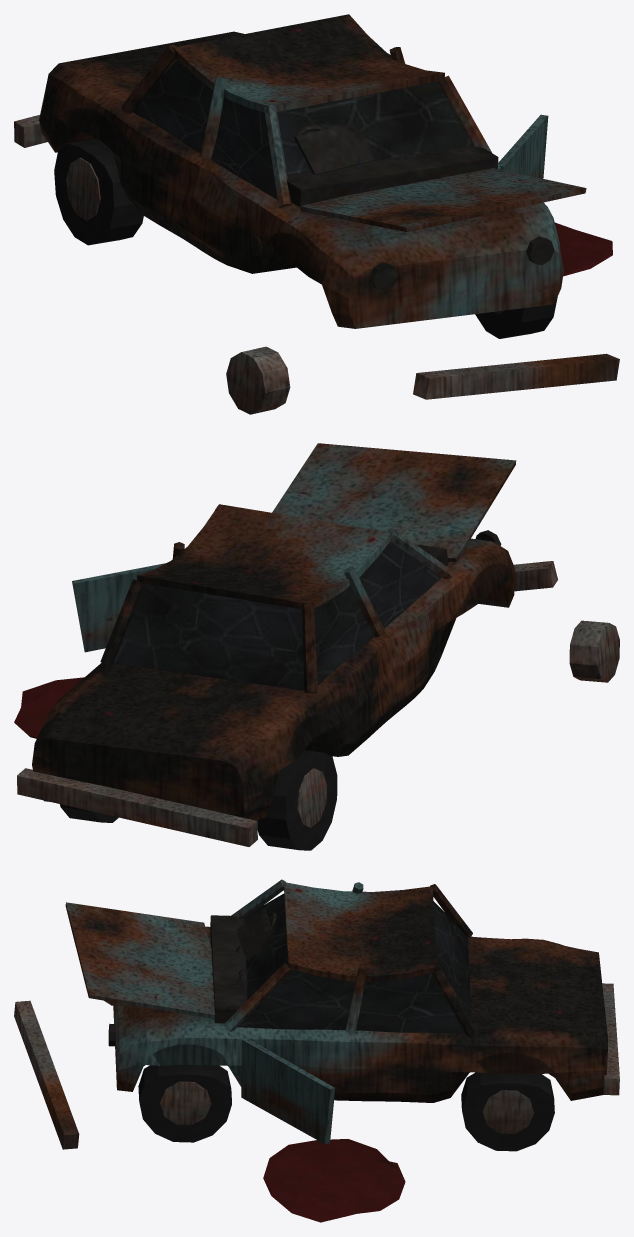
File: car_wreck_a.glb
3 views of the same model, one above another, from view 1: azimuth 30°, elevation 25°; view 2: azimuth 150°, elevation 25°; view 3: azimuth 270°, elevation 25° (orthographic). The views are drawn at different scales.
Visible parts, largest first — view 1: car_wreck_a; view 2: car_wreck_a; view 3: car_wreck_a.
Boxes of the visible parts, x1,y1,x2,y2 form: car_wreck_a: [14, 14, 619, 414]; car_wreck_a: [14, 443, 619, 850]; car_wreck_a: [14, 879, 619, 1222].
Size of the model in its own units: 3.6 by 1.69 by 4.69.
1 material, 1 textured.
